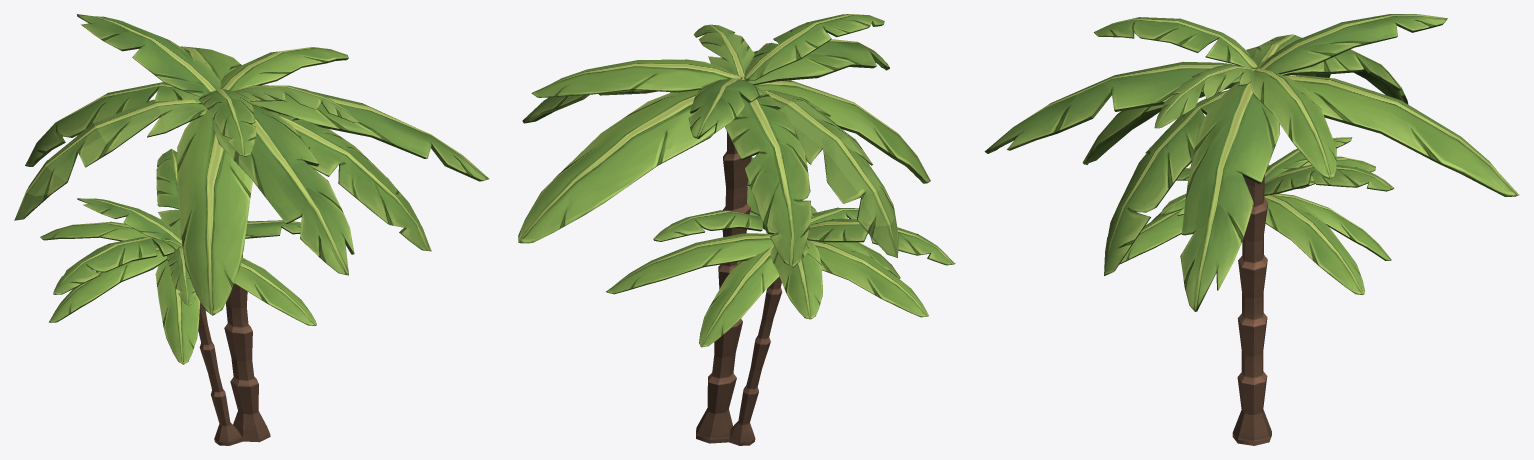
The model's file is yazasu1.FBX.
3 renders of one model, left to right at view 1: azimuth 30°, elevation 25°; view 2: azimuth 150°, elevation 25°; view 3: azimuth 270°, elevation 25°, orthographic. The views are drawn at different scales.
Visible parts, largest first — view 1: Cylinder005; view 2: Cylinder005; view 3: Cylinder005.
Boxes of the visible parts, bbox=[...] form: Cylinder005: bbox=[14, 14, 488, 445]; Cylinder005: bbox=[518, 14, 955, 445]; Cylinder005: bbox=[984, 14, 1519, 445].
Bounding box in the file's own units: 182 × 156 × 194.
